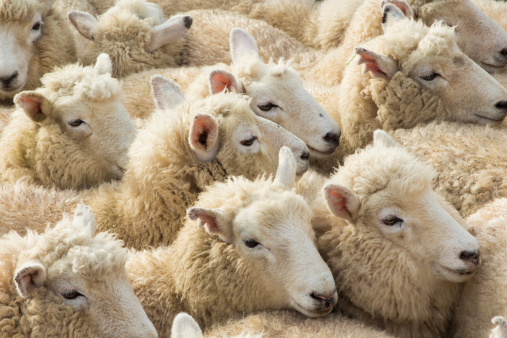sheep: (129, 144, 338, 328), (308, 129, 492, 331), (123, 84, 313, 257), (317, 8, 506, 146), (1, 198, 158, 333), (1, 52, 136, 189)
